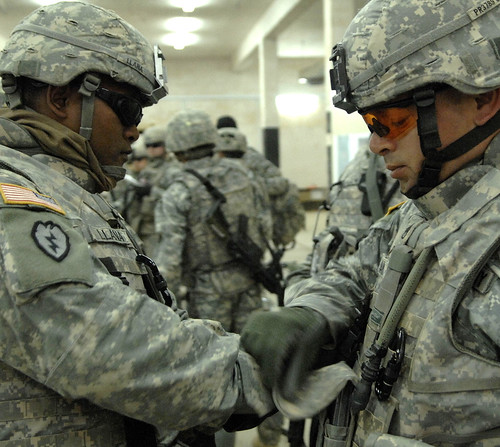soldier: (1, 1, 200, 447), (312, 14, 500, 447), (151, 115, 285, 320)
